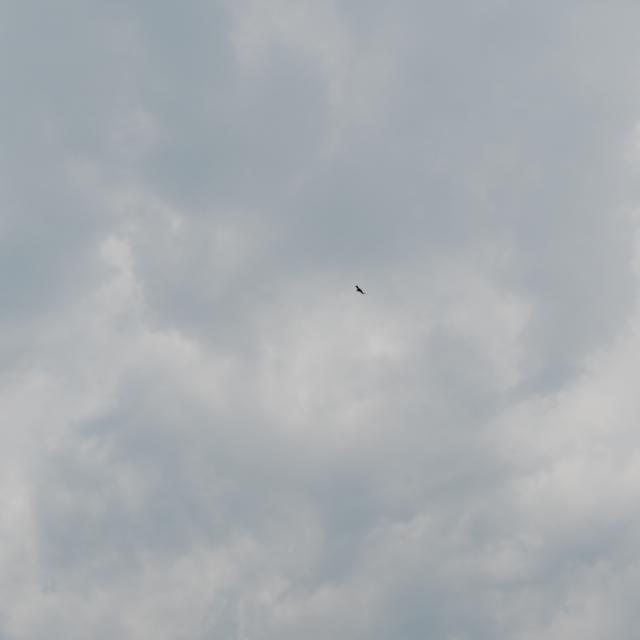Airaplan: (355, 285, 366, 294)
